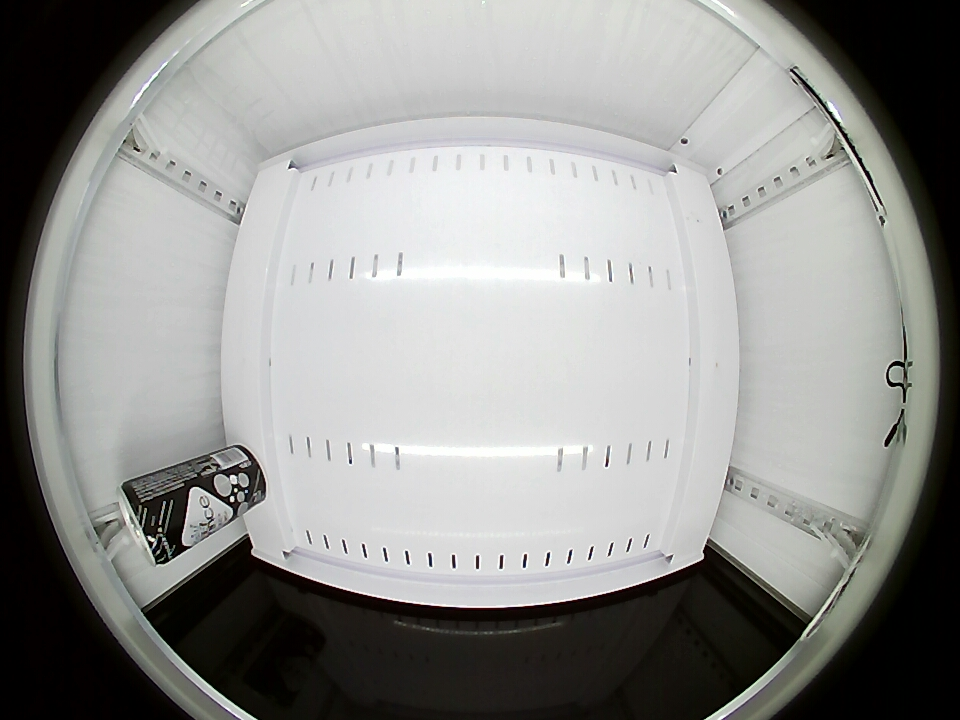qingdaowangzi-1: (116, 476, 183, 566)
